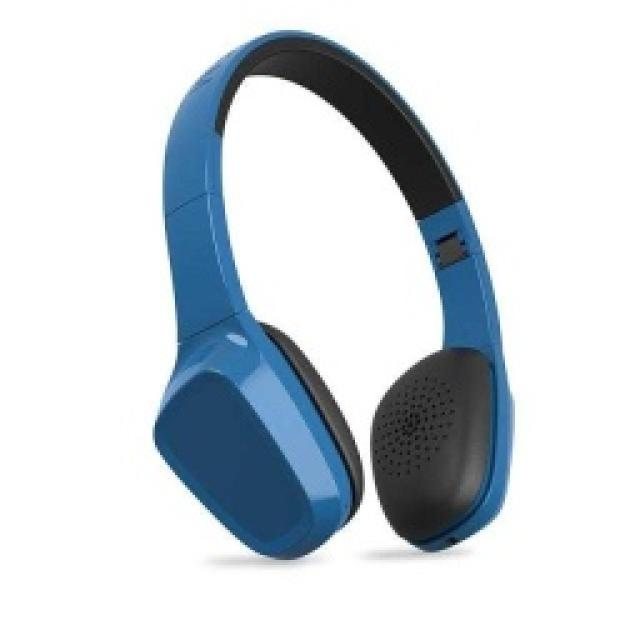headphones: (150, 25, 515, 560)
